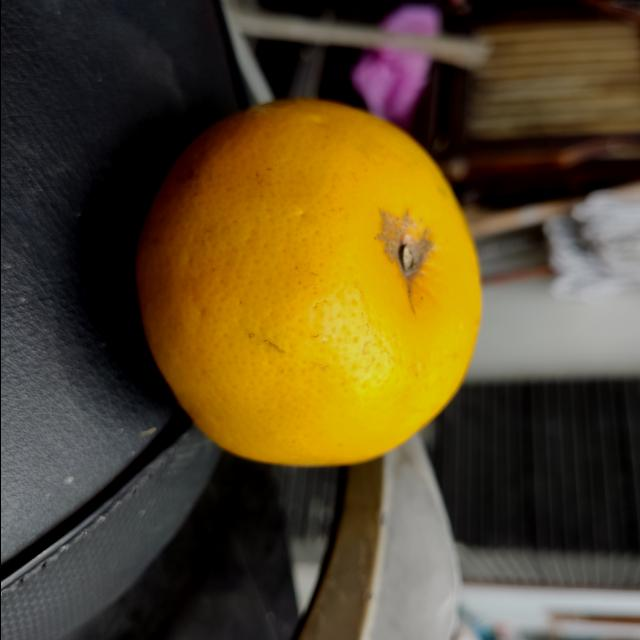orange: (125, 90, 485, 471)
